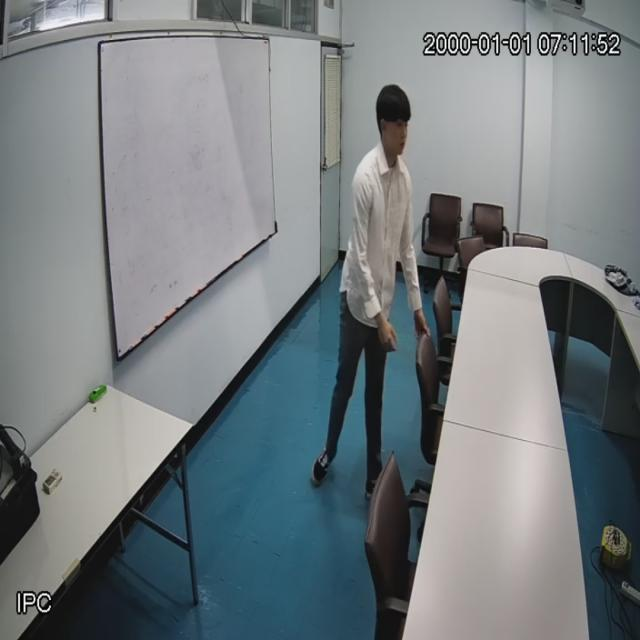normal: (329, 83, 419, 450)
